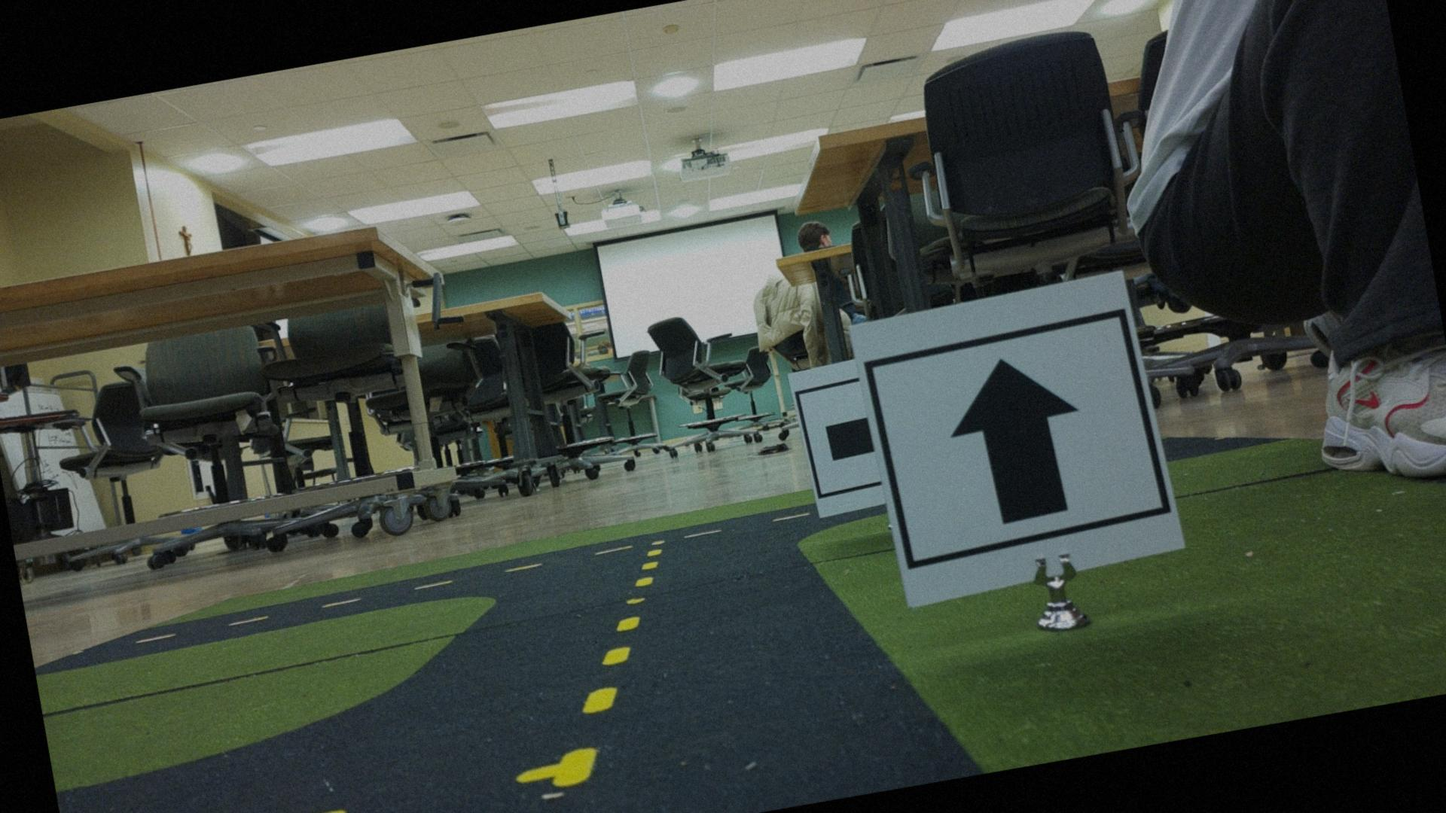gostraight: (865, 282, 1171, 595)
yellowline: (515, 536, 703, 792)
